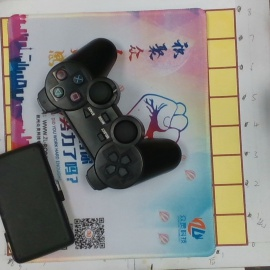remote: (37, 38, 182, 191)
